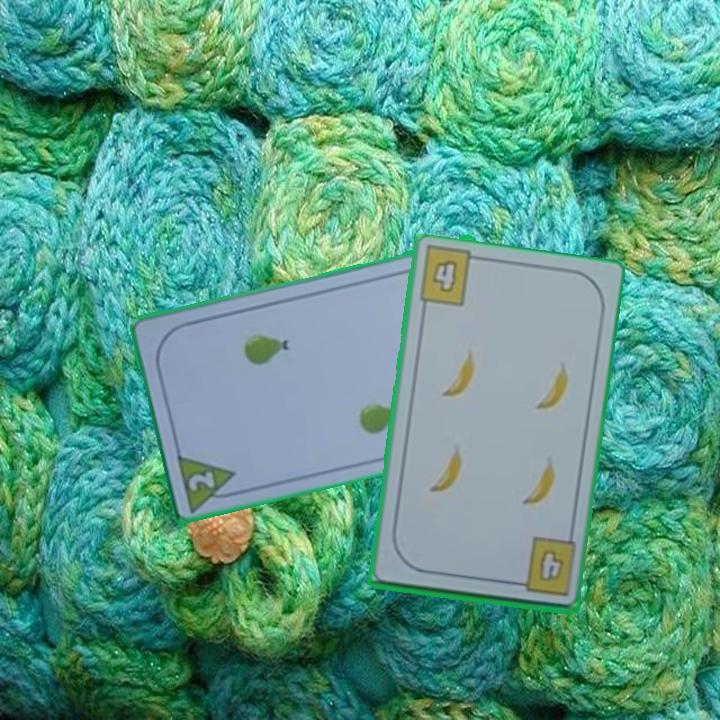2p: (184, 467, 219, 494)
4b: (508, 534, 579, 599), (428, 255, 460, 295)
